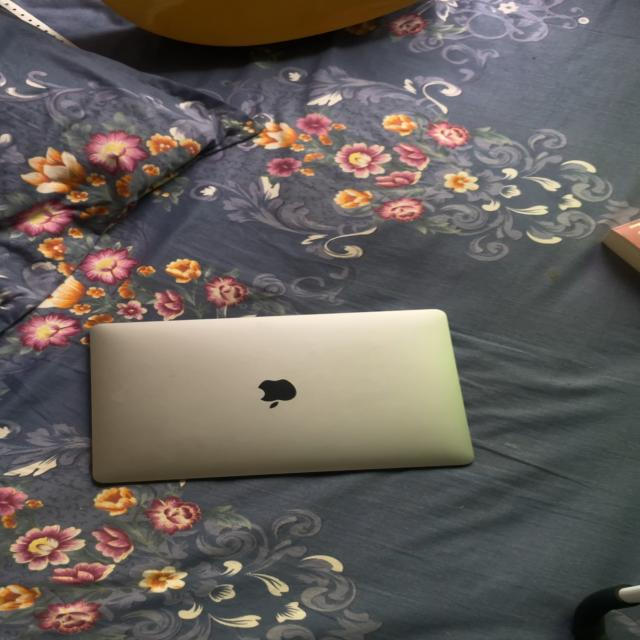laptop: (61, 307, 544, 488)
